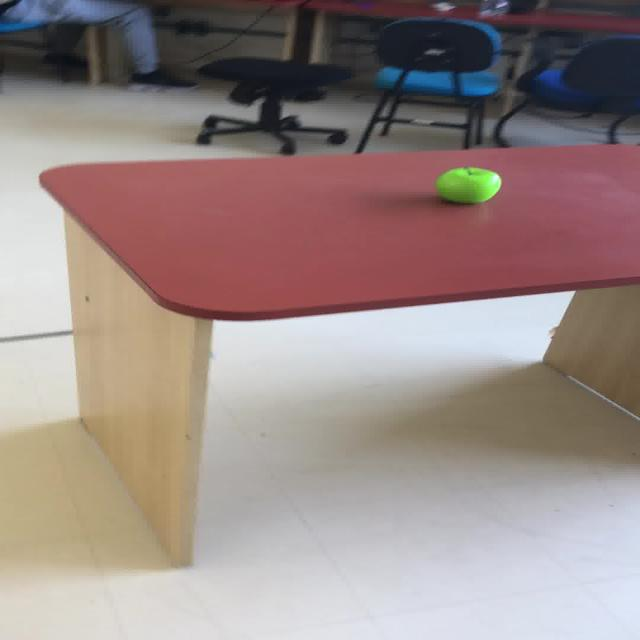apple: (434, 166, 501, 203)
